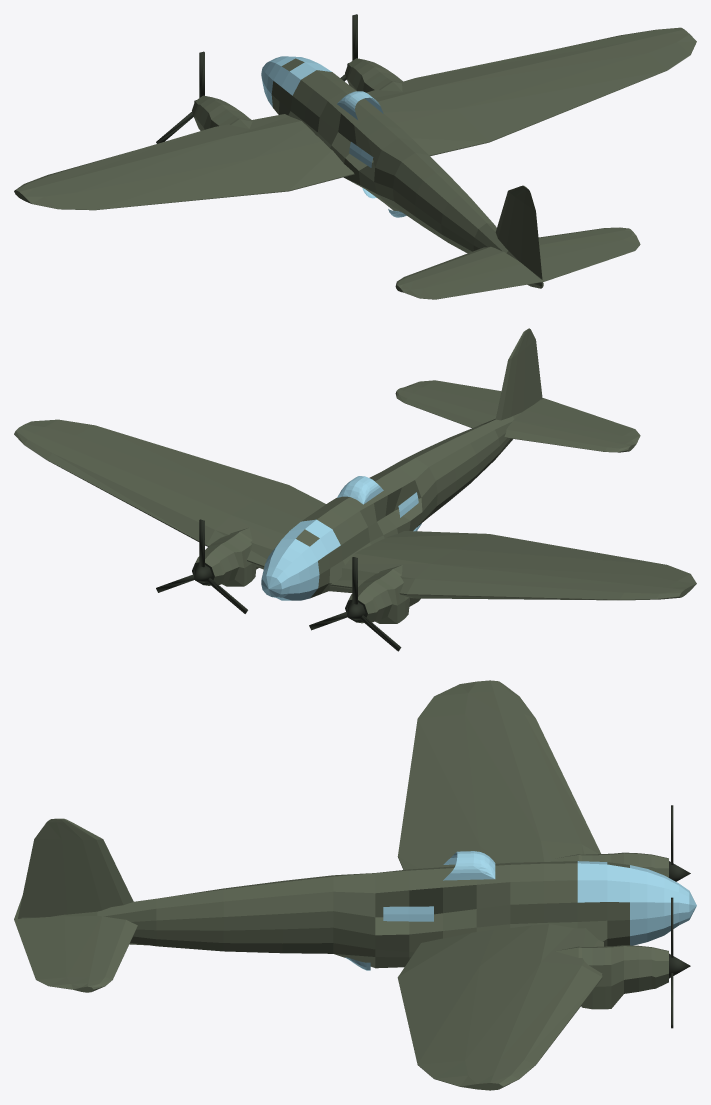
The picture shows the model from 3 angles, top to bottom: view 1: azimuth 30°, elevation 25°; view 2: azimuth 150°, elevation 25°; view 3: azimuth 270°, elevation 25°; orthographic projection. The views are drawn at different scales.
Parts seen in each view (by area): view 1: HE111_Wing, HE111_Fuselage, HE111_Tailplane, HE111_Fin, HE111_NacR, HE111_NacL, HE111_DorsalHood; view 2: HE111_Wing, HE111_Fuselage, HE111_Tailplane, HE111_Fin, HE111_NacL, HE111_NacR, HE111_DorsalHood; view 3: HE111_Wing, HE111_Fuselage, HE111_Fin, HE111_Tailplane, HE111_NacR, HE111_DorsalHood, HE111_NacL, HE111_Canopy.
Boxes of the visible parts, x1=… form: HE111_Wing: x1=14, y1=27, x2=696, y2=210; HE111_Fuselage: x1=261, y1=56, x2=543, y2=288; HE111_Tailplane: x1=395, y1=227, x2=640, y2=299; HE111_Fin: x1=495, y1=185, x2=542, y2=279; HE111_NacR: x1=345, y1=58, x2=402, y2=92; HE111_NacL: x1=192, y1=95, x2=252, y2=130; HE111_DorsalHood: x1=337, y1=91, x2=383, y2=119; HE111_Wing: x1=14, y1=419, x2=696, y2=600; HE111_Fuselage: x1=261, y1=399, x2=541, y2=600; HE111_Tailplane: x1=395, y1=380, x2=640, y2=452; HE111_Fin: x1=495, y1=328, x2=542, y2=420; HE111_NacL: x1=345, y1=565, x2=420, y2=623; HE111_NacR: x1=192, y1=528, x2=258, y2=586; HE111_DorsalHood: x1=337, y1=476, x2=383, y2=504; HE111_Wing: x1=397, y1=680, x2=603, y2=1090; HE111_Fuselage: x1=20, y1=861, x2=696, y2=968; HE111_Fin: x1=18, y1=818, x2=133, y2=918; HE111_Tailplane: x1=14, y1=896, x2=137, y2=992; HE111_NacR: x1=555, y1=945, x2=668, y2=1009; HE111_DorsalHood: x1=443, y1=851, x2=495, y2=880; HE111_NacL: x1=555, y1=852, x2=668, y2=877; HE111_Canopy: x1=383, y1=906, x2=433, y2=921.
Size of the model in its own units: 22.6 by 3.92 by 16.21.
